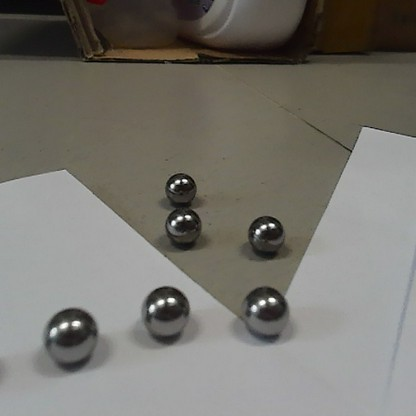ironball: (39, 308, 98, 367), (136, 283, 193, 339), (239, 285, 291, 336), (245, 214, 286, 259), (163, 207, 203, 248), (164, 171, 198, 205)
